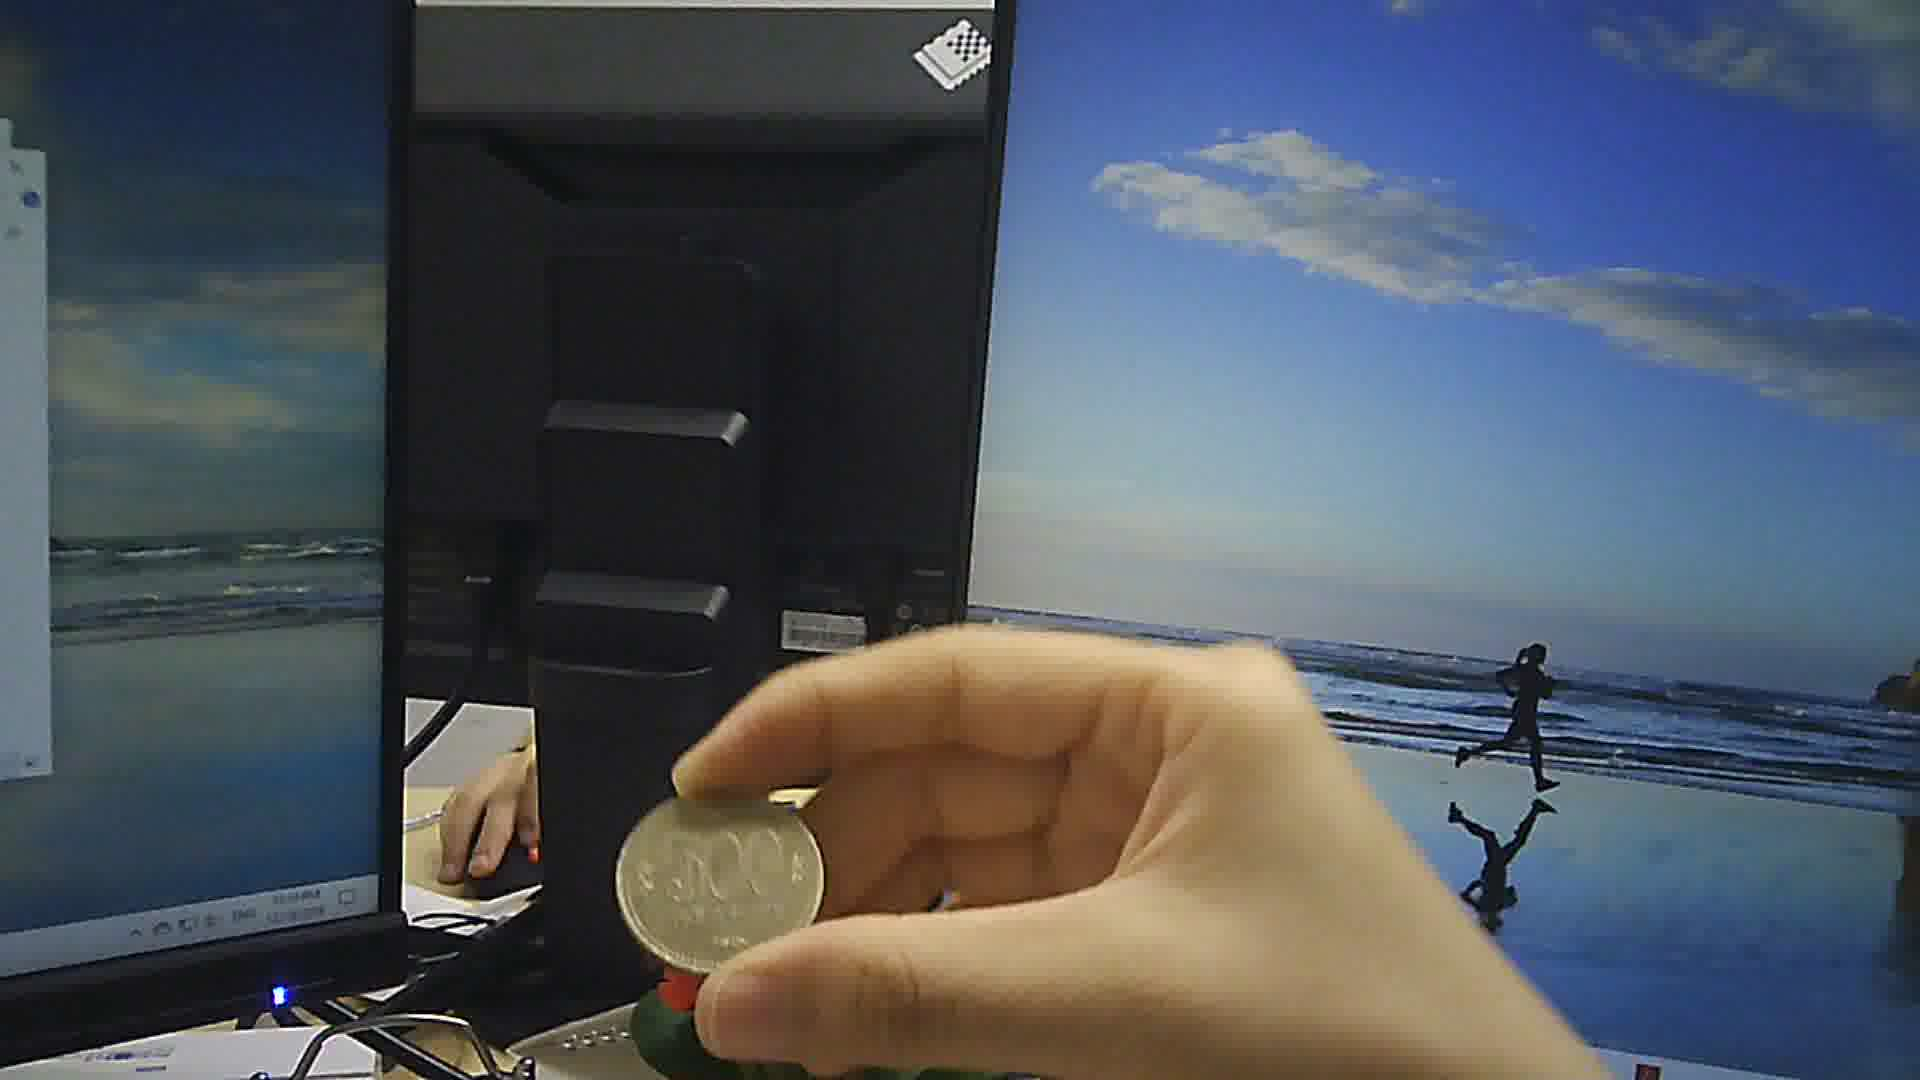500 Yen: (605, 789, 822, 975)
